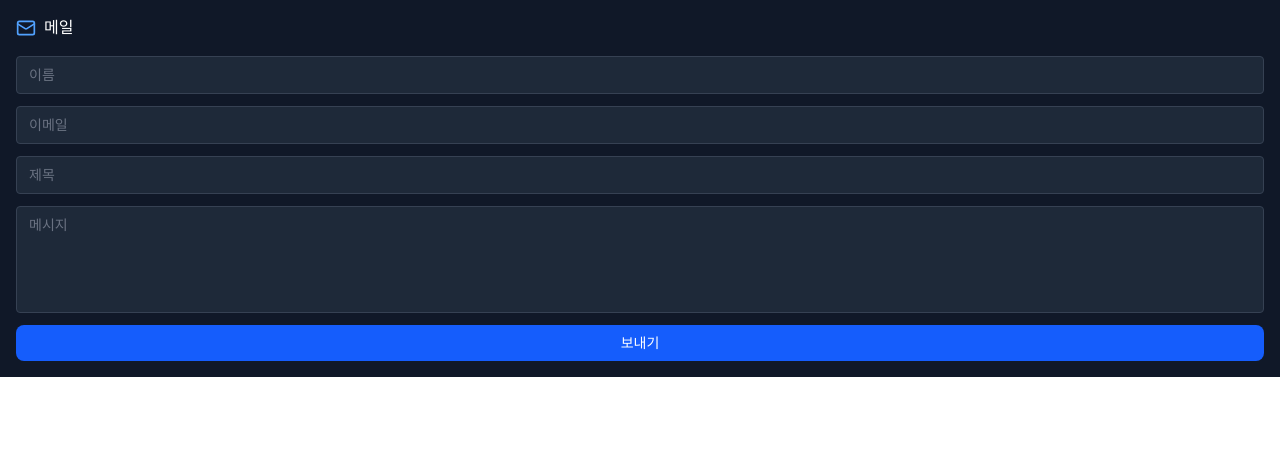
Scenario: MailingApp › shows fallback link on network error
Type "Hana" into the field with test id "mail-name".
click(640, 75); type("Hana")  # box [16,56,1264,94]
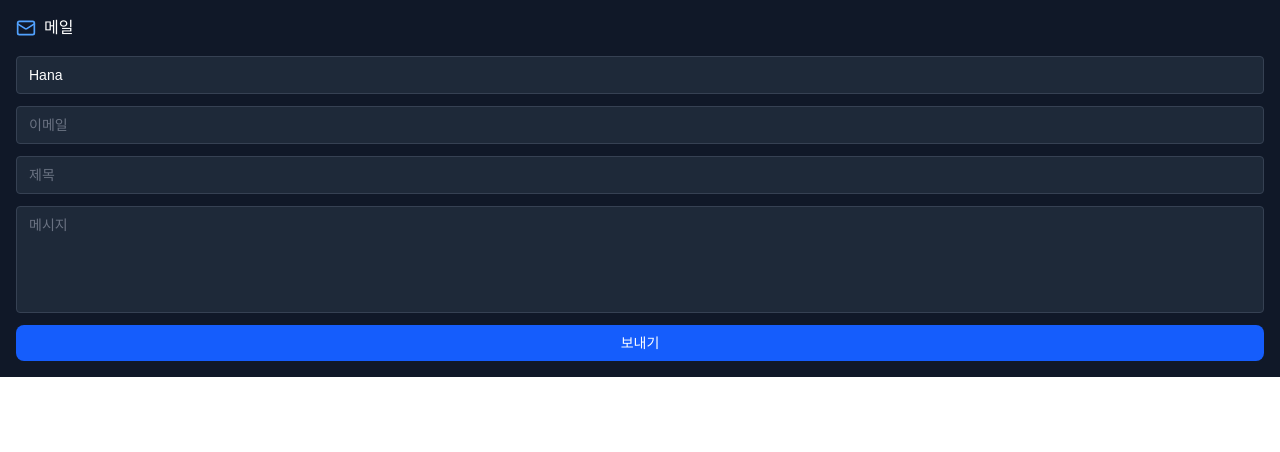
Type "hana@example.com" into the field with test id "mail-email".
click(640, 125); type("hana@example.com")  # box [16,106,1264,144]
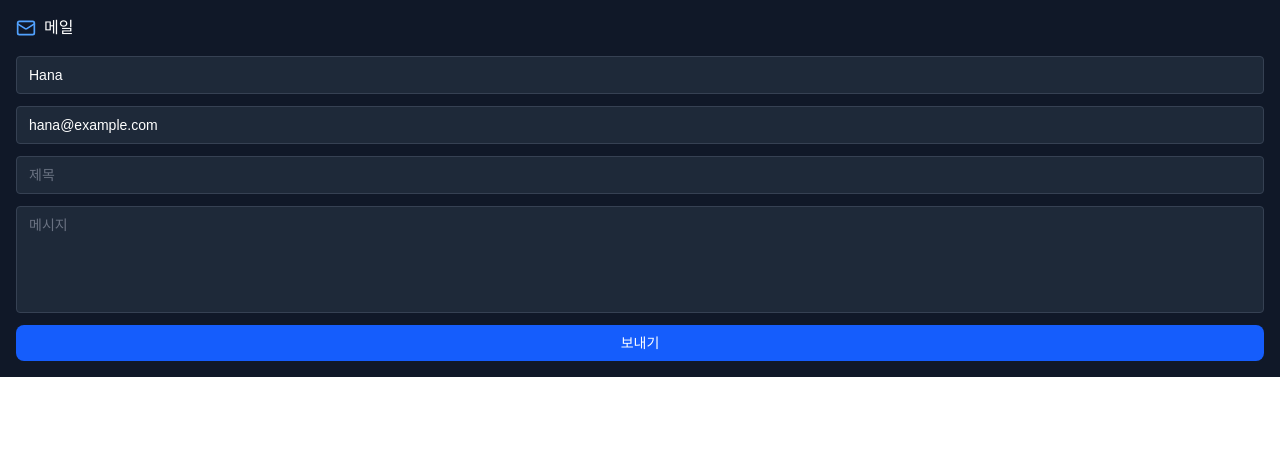
Type "Hello" into the field with test id "mail-subject".
click(640, 175); type("Hello")  # box [16,156,1264,194]
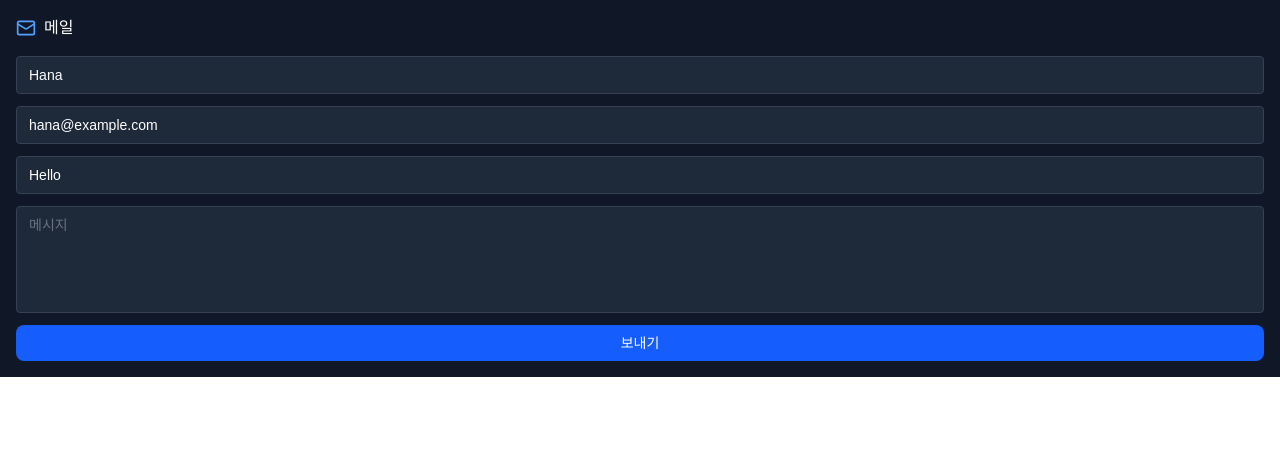
Type "Test" into the text box with test id "mail-message".
click(640, 260); type("Test")  # box [16,206,1264,313]
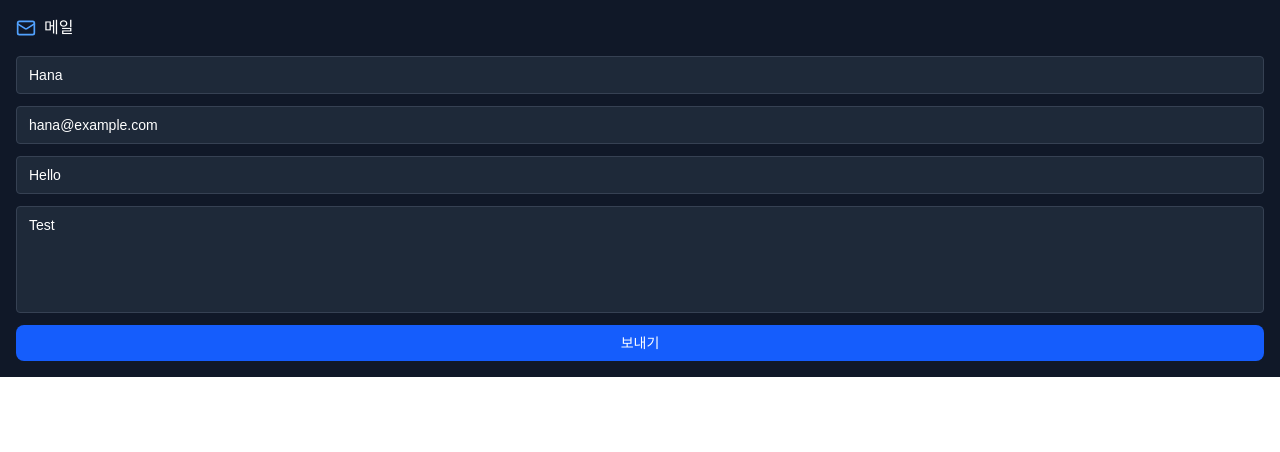
Click the button with test id "mail-submit".
click(640, 343)  # box [16,325,1264,361]
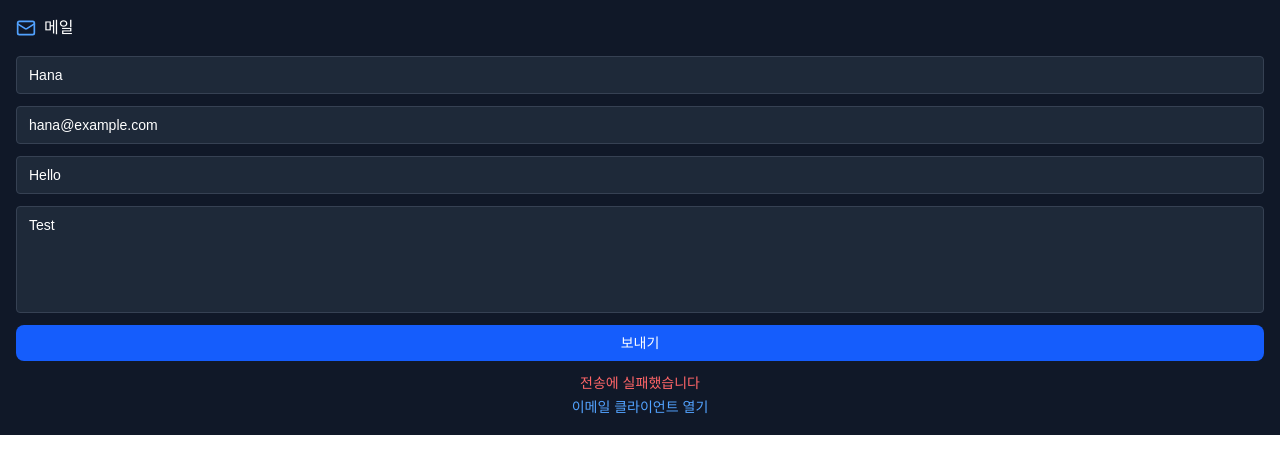
Expected: the link with test id "mail-fallback" is shown, [572,397,708,417]
